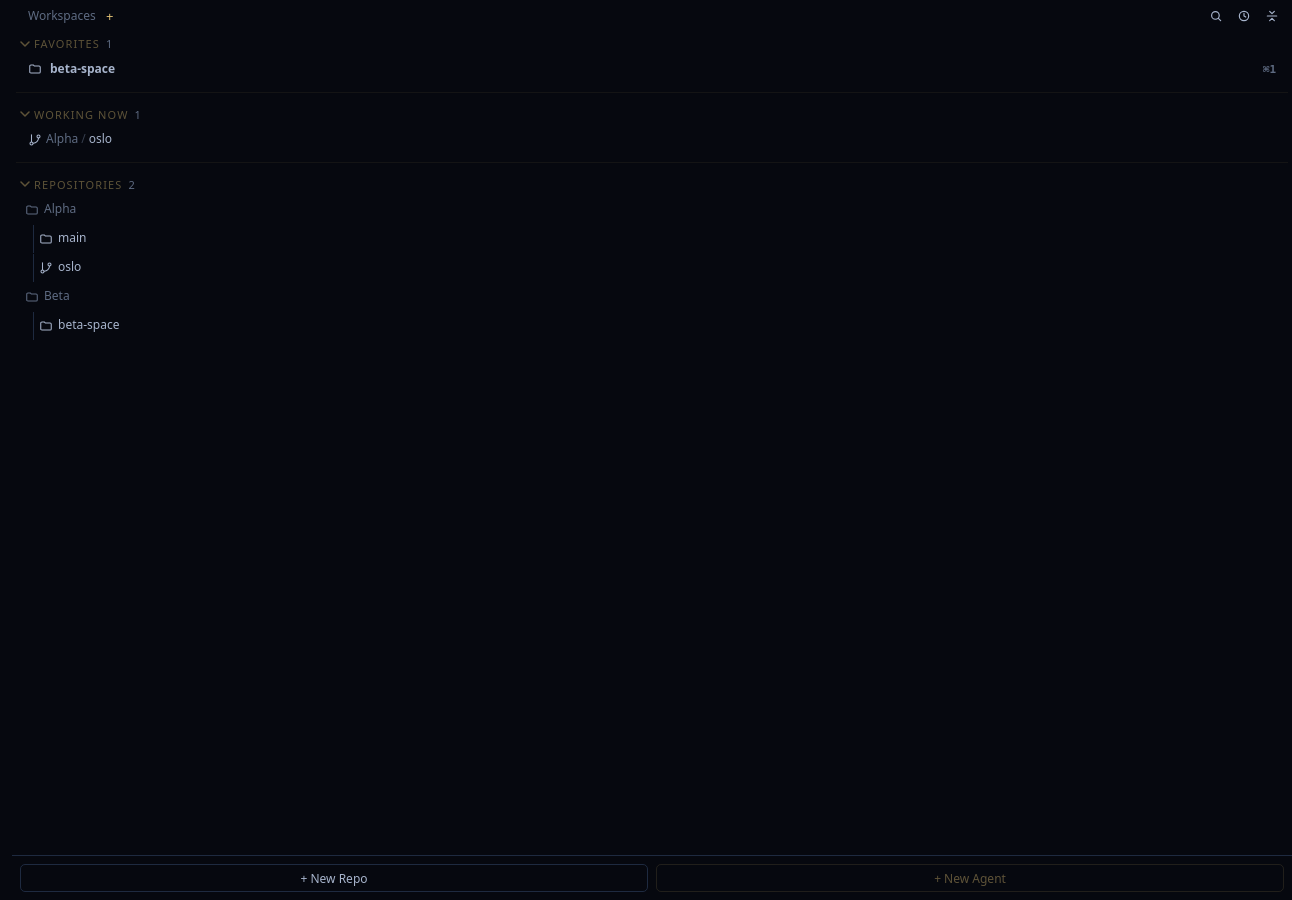
Scenario: sidebar filter › hides Favorites and Working now while filtering
Check: the text "Favorites" is shown, box [34,36,100,51]
Check: the text "Working now" is shown, box [34,107,128,122]
Click the button named "Filter workspaces": (1216, 16) [1204,4,1228,28]
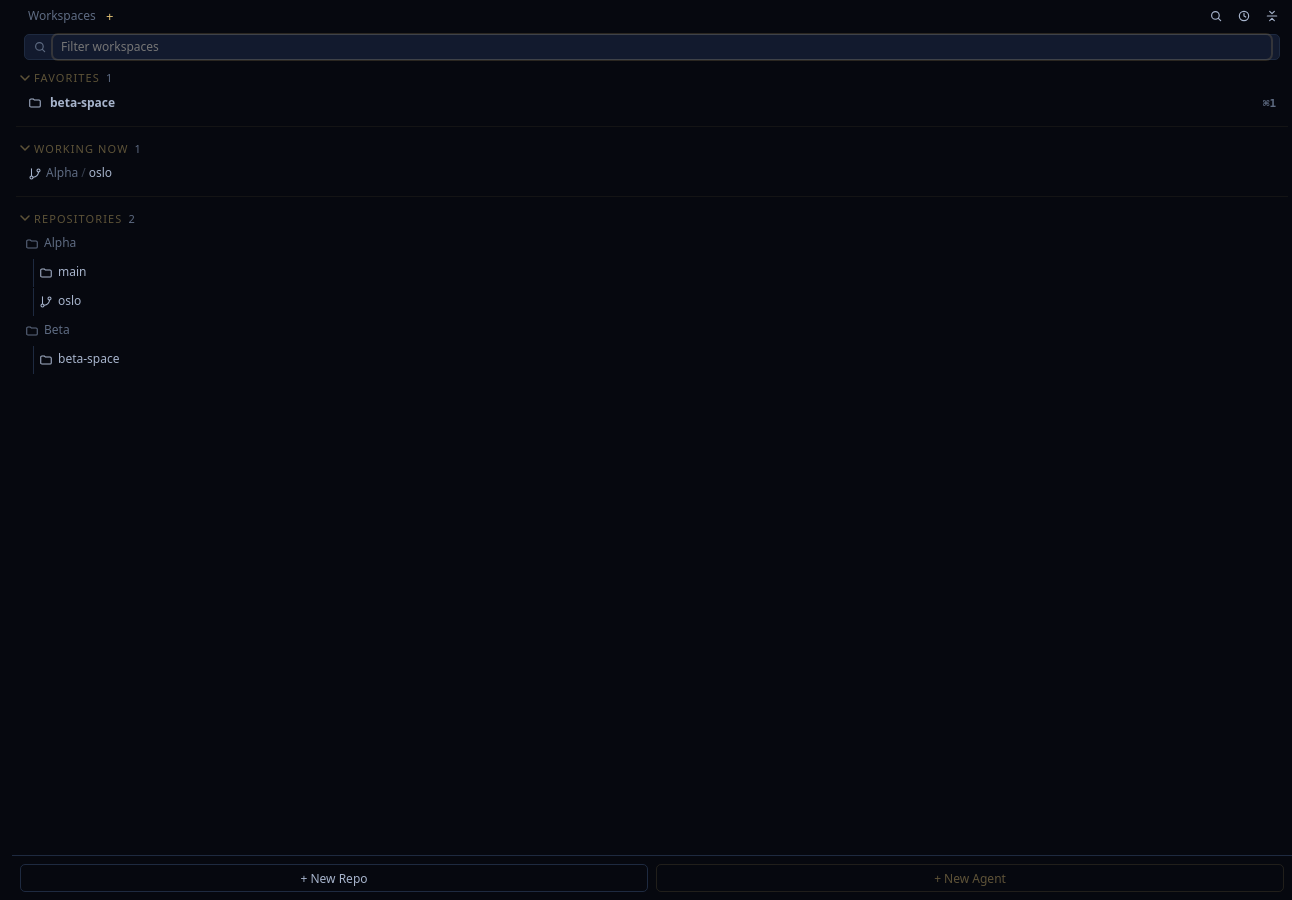
In the field labelled "Filter workspaces": (662, 47) [53,35,1271,59], type "beta"
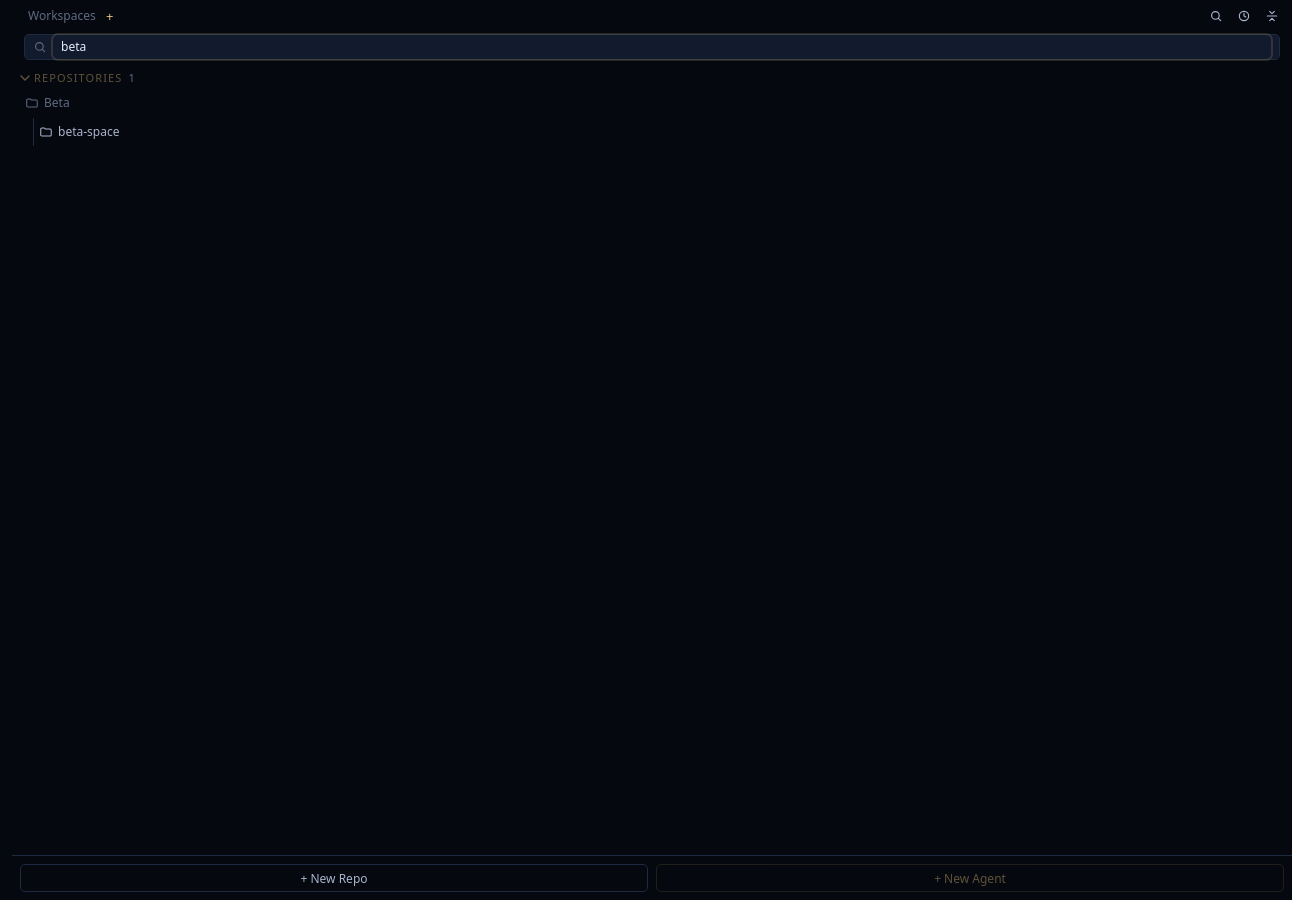
Check: the button "Favorites" is gone
Check: the button "Working now" is gone
